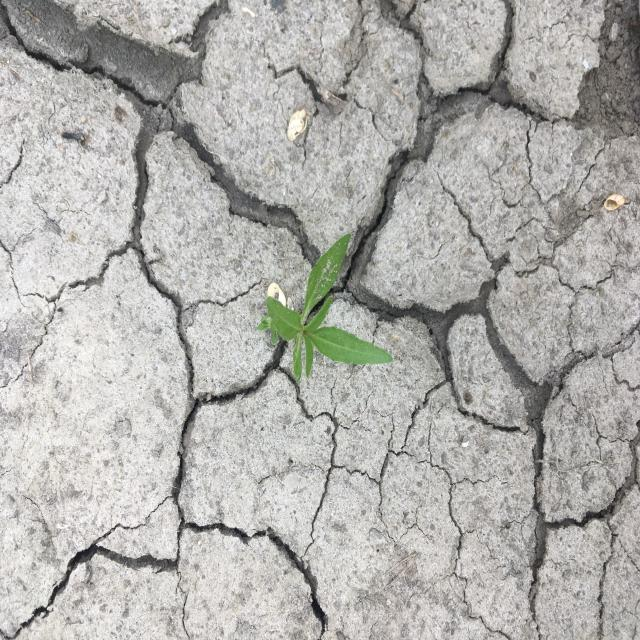Eclipta: (255, 232, 394, 384)
